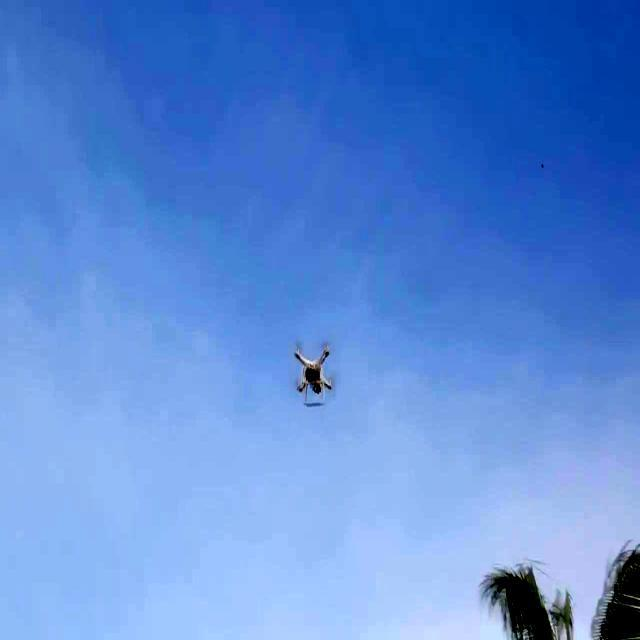drone: (292, 338, 336, 412)
